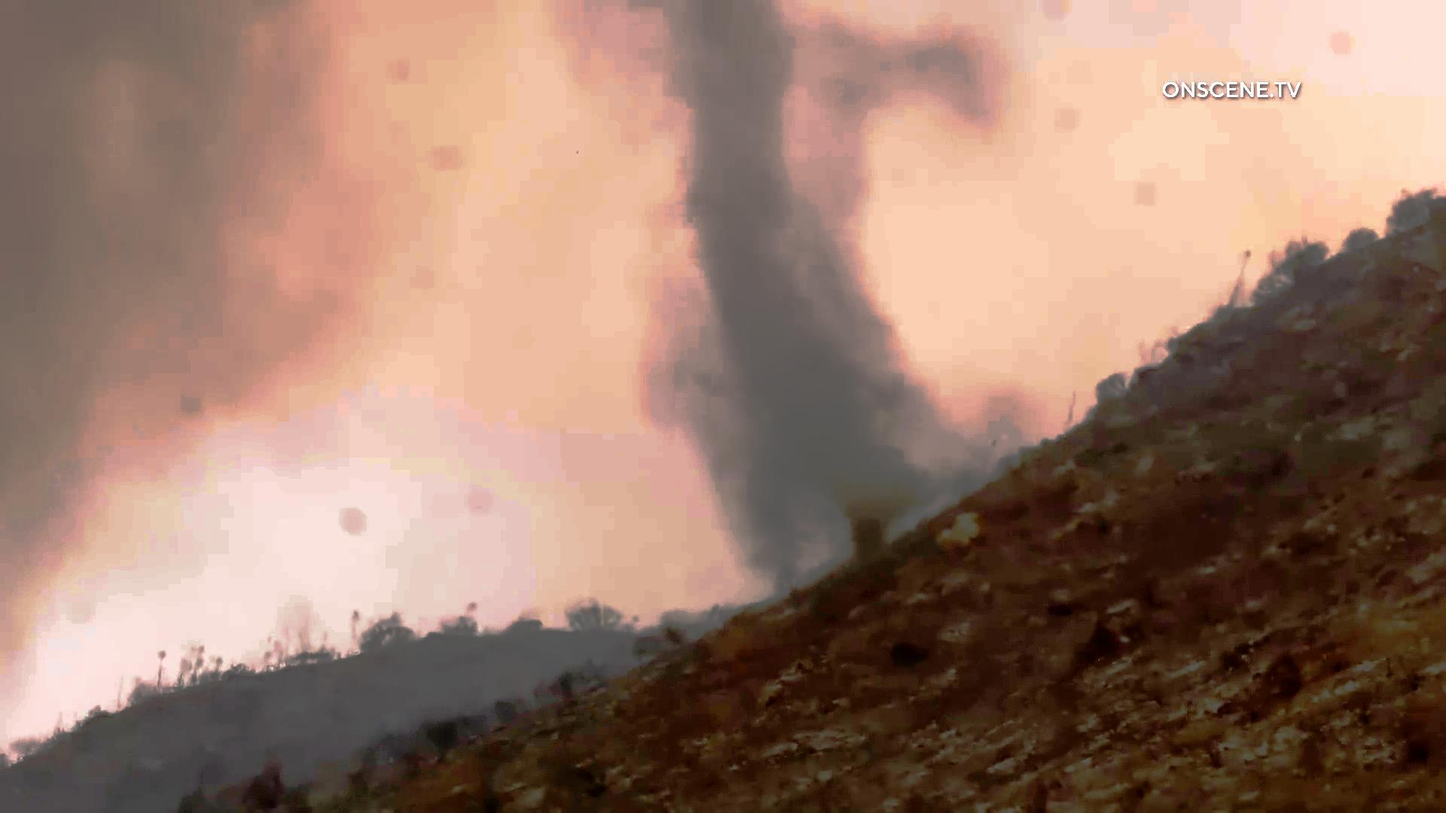smoke: (641, 8, 923, 532)
